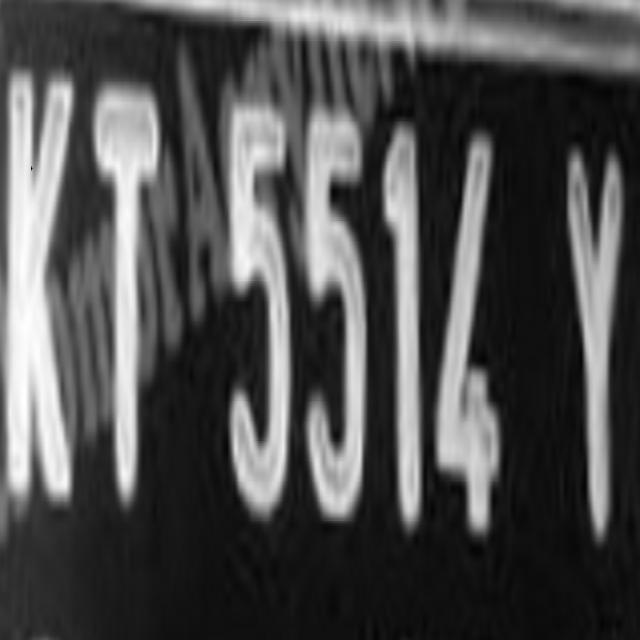1: (378, 100, 424, 546)
4: (430, 110, 510, 564)
5: (210, 80, 300, 542), (300, 105, 370, 556)
K: (5, 70, 81, 516)
T: (86, 83, 172, 514)
Y: (545, 128, 640, 562)
